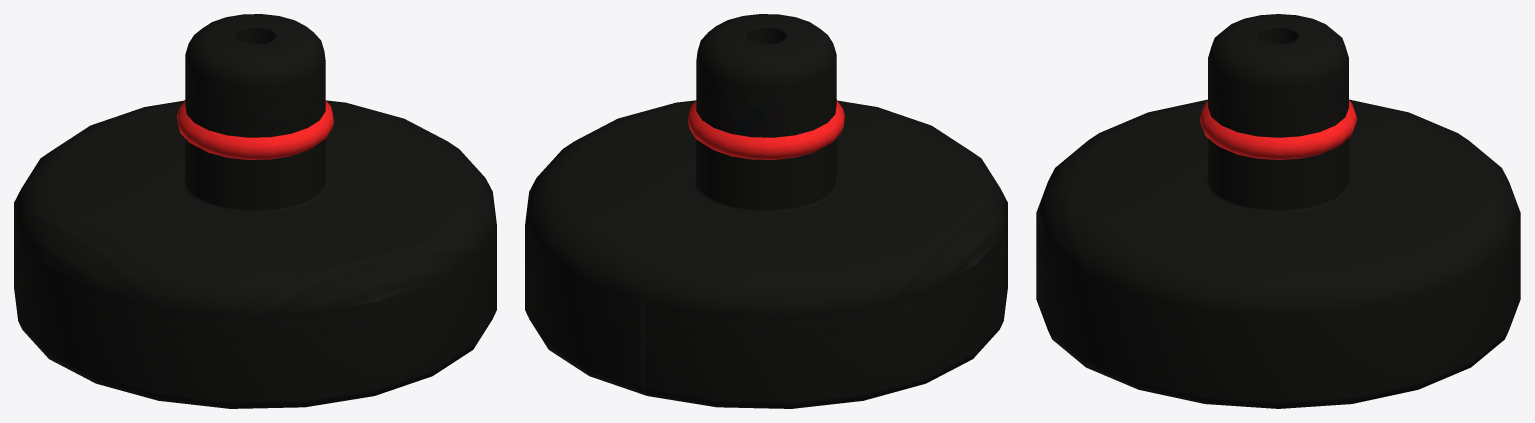
The model's file is jackpads.glb.
3 renders of one model, left to right at view 1: azimuth 30°, elevation 25°; view 2: azimuth 150°, elevation 25°; view 3: azimuth 270°, elevation 25°, orthographic.
Parts seen in each view (by area): view 1: Jackpads; view 2: Jackpads; view 3: Jackpads.
Boxes of the visible parts, left/top/right/bottom form: Jackpads: left=14, top=14, right=496, bottom=408; Jackpads: left=525, top=14, right=1007, bottom=408; Jackpads: left=1036, top=14, right=1520, bottom=408.
Size of the model in its own units: 0.0678 by 0.0427 by 0.0678.
1 material, 1 textured.
